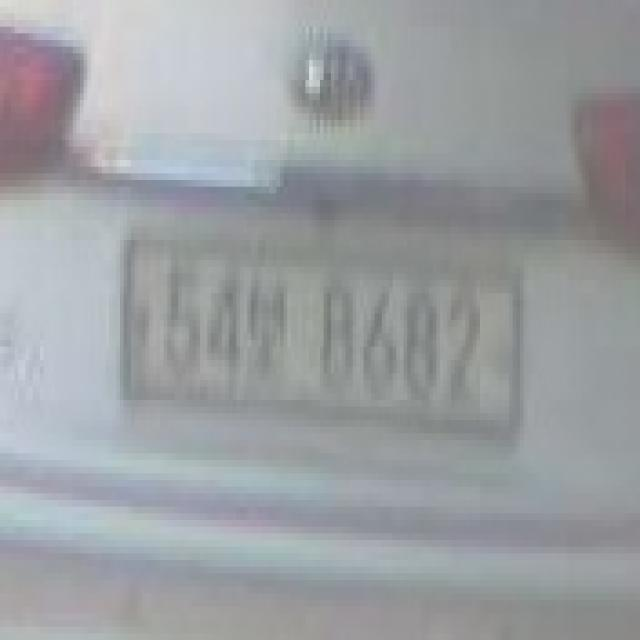2: (440, 280, 487, 420)
4: (196, 247, 248, 400)
5: (153, 254, 200, 374)
6: (364, 280, 404, 407)
8: (316, 253, 360, 427), (400, 286, 444, 426)
bo: (240, 266, 295, 386)
license_plate: (109, 227, 531, 473)
